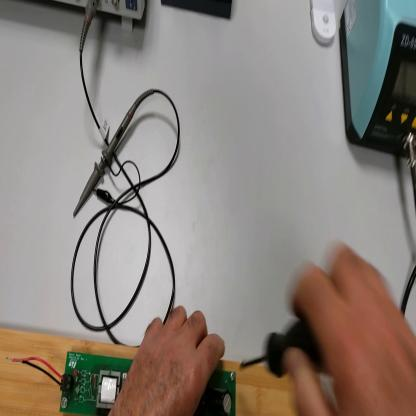hand: (283, 241, 416, 416), (114, 304, 226, 414)
high voltage board: (8, 348, 238, 416)
oscilloscope: (65, 1, 147, 32)
oscilloscope probe tip: (74, 105, 137, 219)
screwdriver-: (238, 318, 329, 378)
welder station: (340, 2, 416, 161)
working area: (1, 328, 287, 415)
